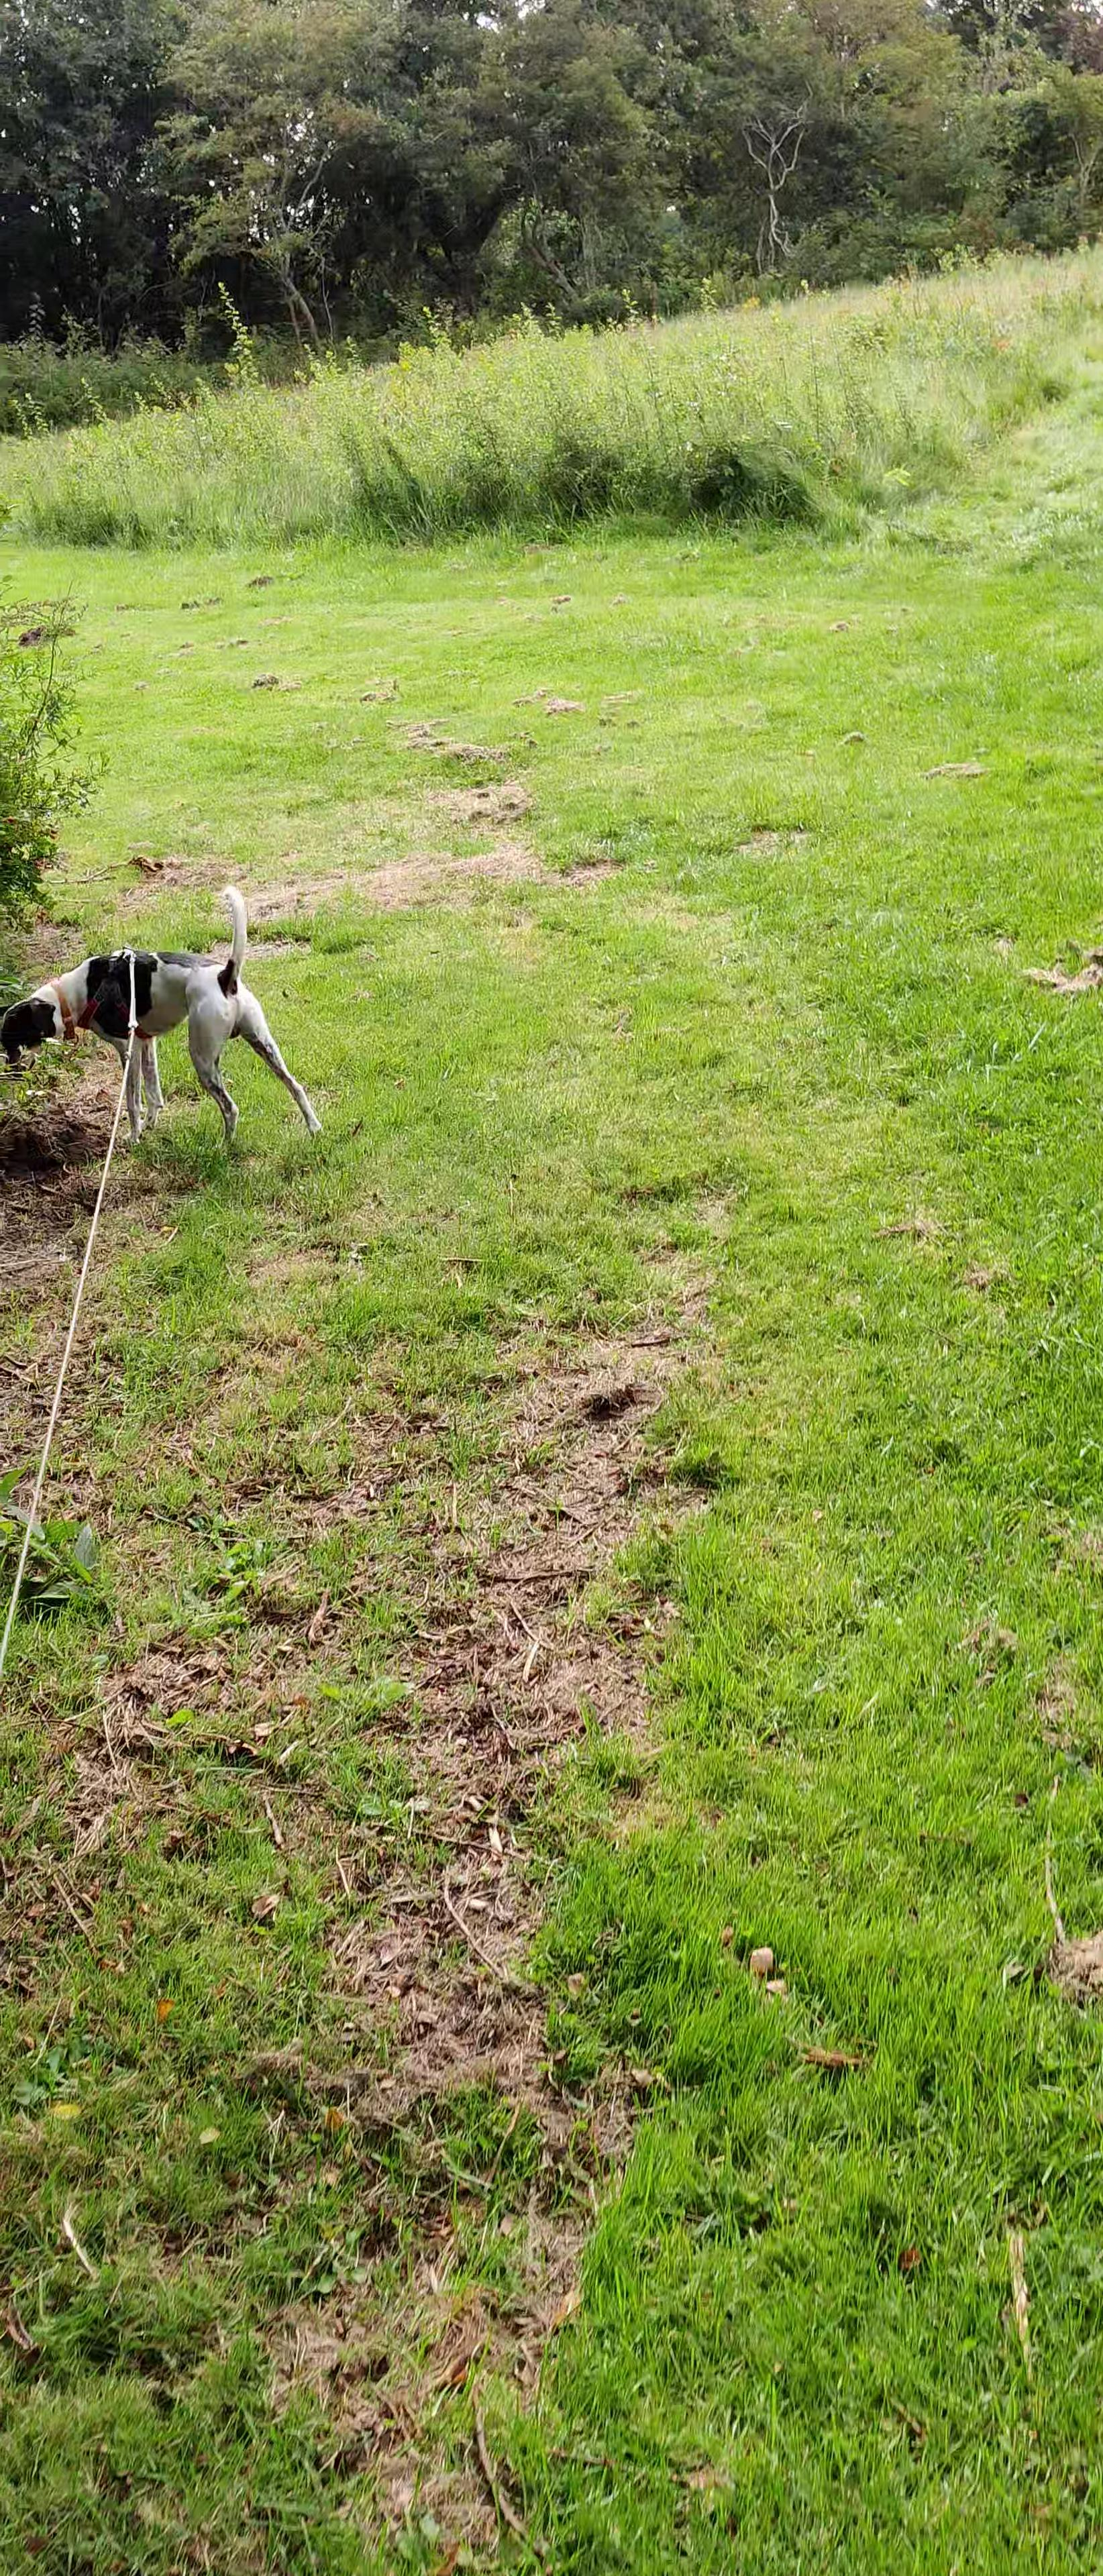Dog: (0, 882, 325, 1173)
